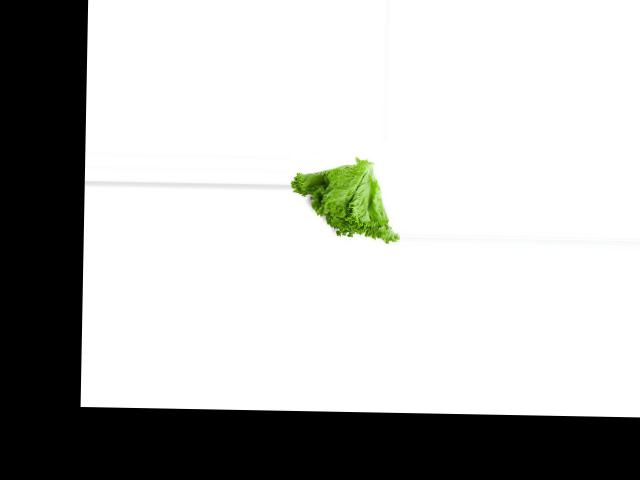lettuce: (288, 159, 401, 246)
